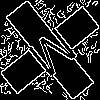M: (25, 25, 86, 87)
